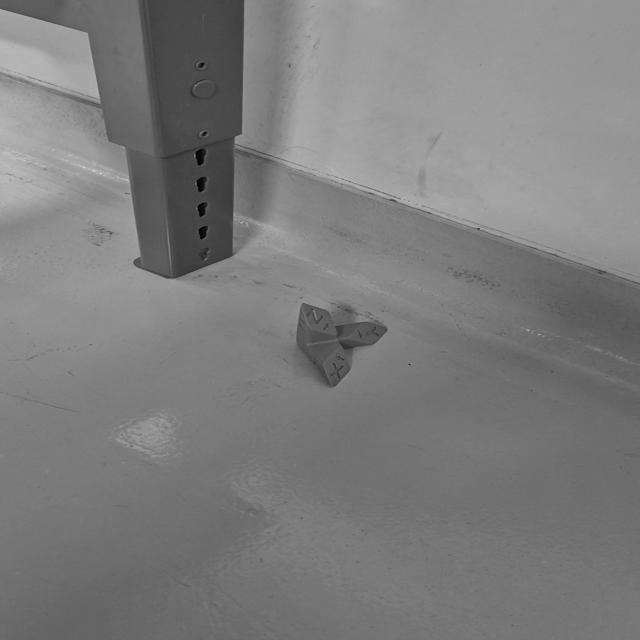eje: (291, 300, 393, 390)
